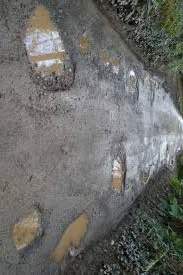pothole: (26, 7, 78, 107), (49, 211, 93, 266), (11, 209, 47, 253), (109, 149, 126, 197), (78, 26, 91, 62), (136, 166, 151, 186), (126, 67, 135, 100), (110, 57, 121, 79), (100, 49, 111, 64), (147, 81, 154, 104)
